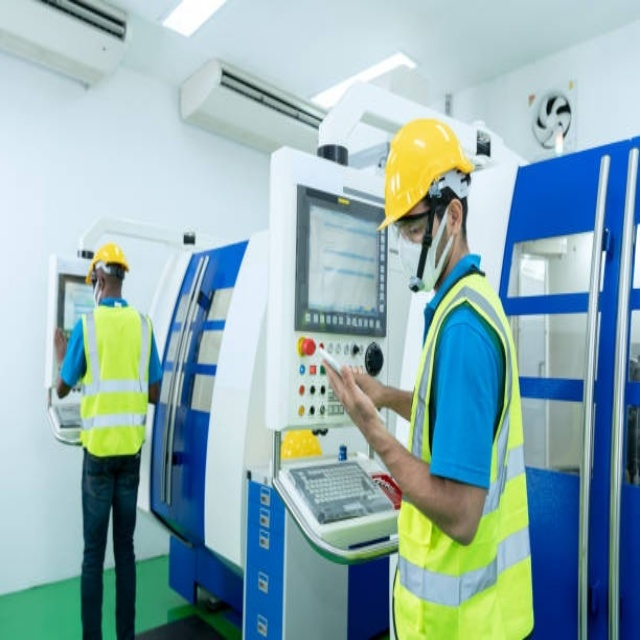Gafas: (390, 201, 448, 240)
Mascara: (396, 229, 445, 296)
Sin_guantes: (321, 360, 374, 430)
